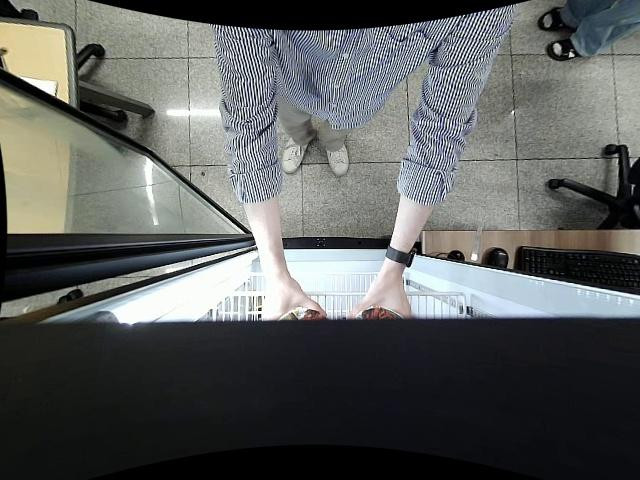00_hand: (256, 276, 328, 324), (349, 286, 410, 318)
